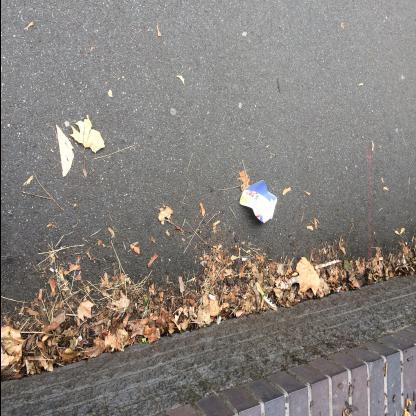kagit: (239, 181, 277, 225)
